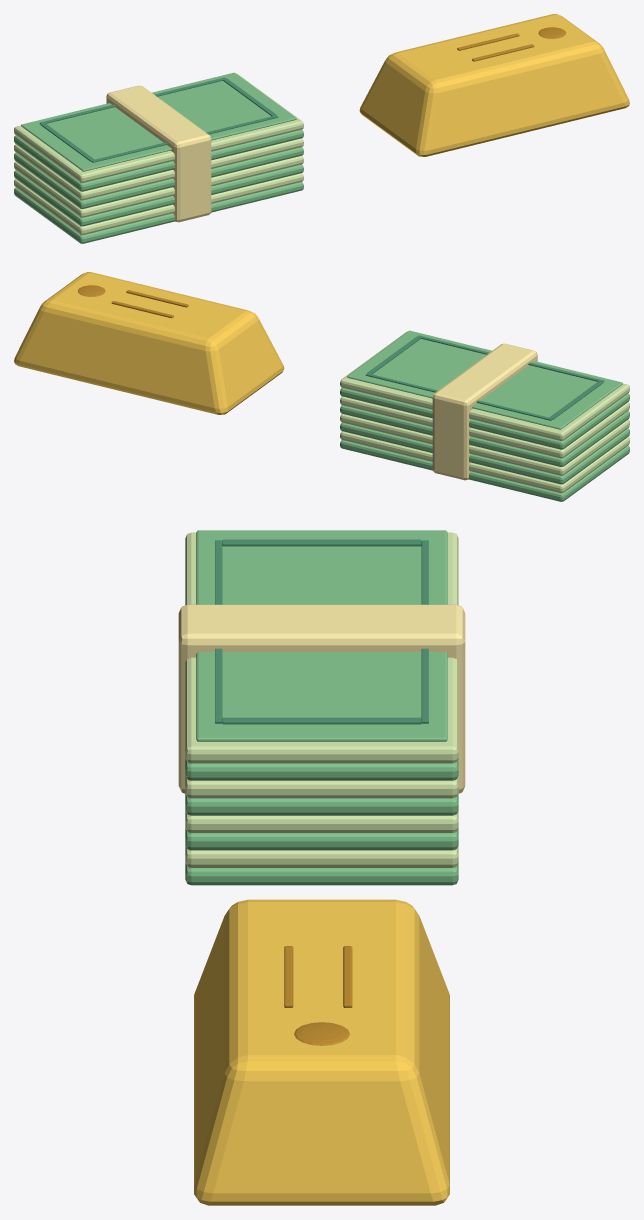
File: wealth.glb
The picture shows the model from 3 angles, top to bottom: view 1: azimuth 30°, elevation 25°; view 2: azimuth 150°, elevation 25°; view 3: azimuth 270°, elevation 25°; orthographic projection. The views are drawn at different scales.
Parts seen in each view (by area): view 1: Gold ingot, Printed top note, Cream strap, Layered note.007, Layered note.002, Layered note.003, Layered note.005, Layered note.001, Layered note, Layered note.004, Layered note.006, Fine print.002 (+1 smaller); view 2: Gold ingot, Printed top note, Cream strap, Layered note.007, Layered note.002, Layered note.003, Layered note.005, Layered note.001, Layered note, Layered note.004, Layered note.006, Fine print.003 (+1 smaller); view 3: Gold ingot, Printed top note, Cream strap, Layered note.007, Layered note.005, Layered note.003, Layered note.002, Layered note, Layered note.001, Layered note.004, Layered note.006, Fine print (+4 smaller).
Part boxes in pixels (x1,y1,x2,y2): Gold ingot: [359, 14, 629, 156]; Printed top note: [21, 72, 296, 171]; Cream strap: [106, 85, 211, 222]; Layered note.007: [14, 73, 303, 182]; Layered note.002: [14, 164, 303, 226]; Layered note.003: [14, 155, 303, 217]; Layered note.005: [14, 138, 303, 200]; Layered note.001: [14, 173, 303, 235]; Layered note: [14, 182, 303, 243]; Layered note.004: [14, 147, 303, 208]; Layered note.006: [14, 129, 303, 191]; Fine print.002: [91, 115, 278, 162]; Gold ingot: [14, 272, 284, 414]; Printed top note: [347, 330, 622, 429]; Cream strap: [432, 343, 537, 480]; Layered note.007: [340, 331, 629, 440]; Layered note.002: [340, 422, 629, 484]; Layered note.003: [340, 413, 629, 475]; Layered note.005: [340, 396, 629, 458]; Layered note.001: [340, 431, 629, 493]; Layered note: [340, 440, 629, 501]; Layered note.004: [340, 405, 629, 466]; Layered note.006: [340, 387, 629, 449]; Fine print.003: [365, 373, 552, 420]; Gold ingot: [194, 899, 449, 1205]; Printed top note: [196, 530, 447, 741]; Cream strap: [178, 604, 465, 793]; Layered note.007: [185, 532, 458, 763]; Layered note.005: [185, 776, 458, 798]; Layered note.003: [185, 810, 458, 832]; Layered note.002: [185, 828, 458, 850]; Layered note: [185, 863, 458, 885]; Layered note.001: [185, 845, 458, 867]; Layered note.004: [185, 793, 458, 815]; Layered note.006: [185, 758, 458, 780]; Fine print: [222, 539, 421, 546].
Size of the model in its own units: 1.73 by 0.24 by 0.388.
